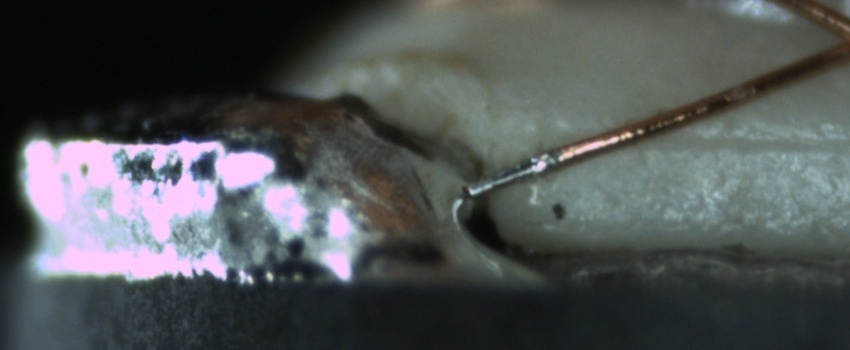CL: (803, 10, 850, 75)
DL: (619, 110, 846, 179)
TS: (465, 151, 556, 200)
